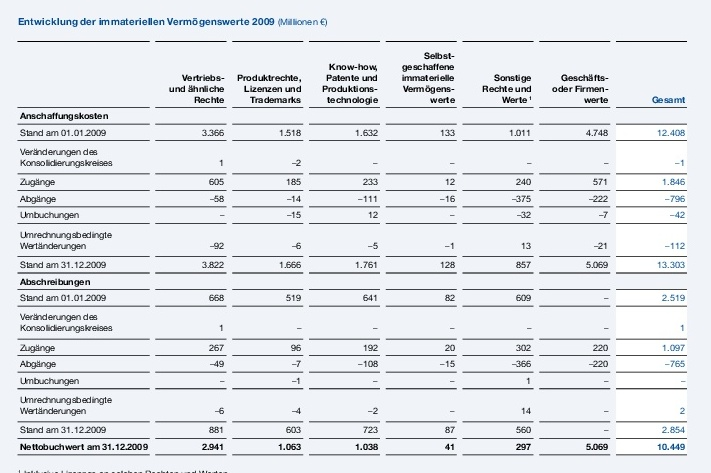table: (0, 0, 711, 473)
